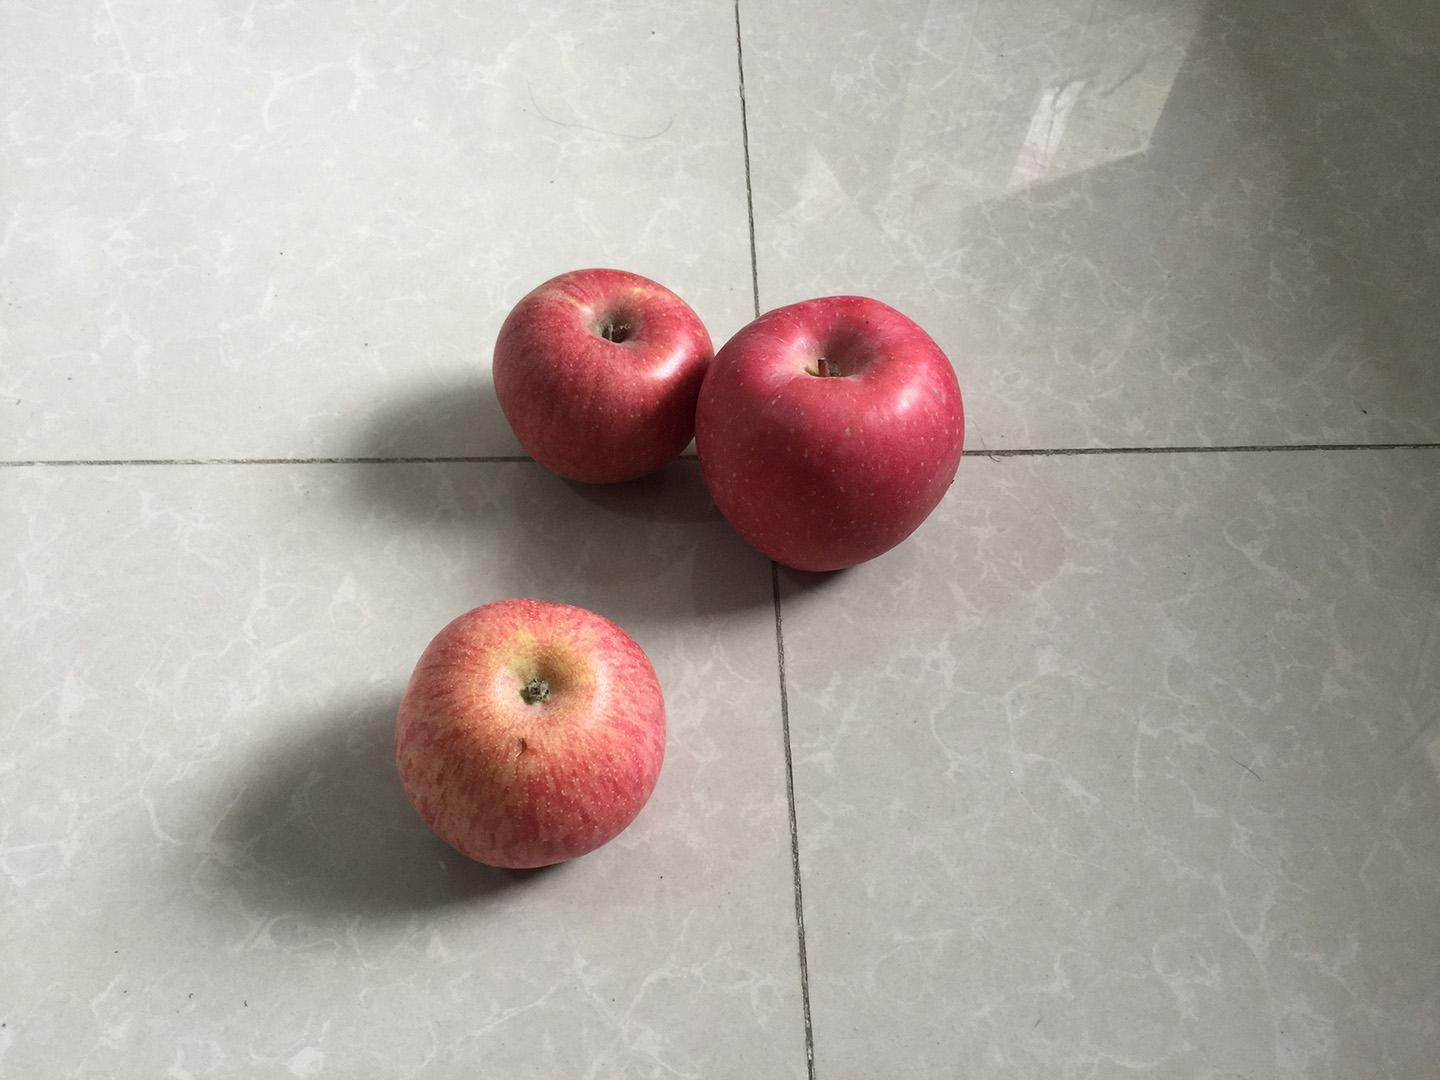apple: (689, 288, 976, 580), (389, 592, 674, 874), (489, 261, 721, 492)
